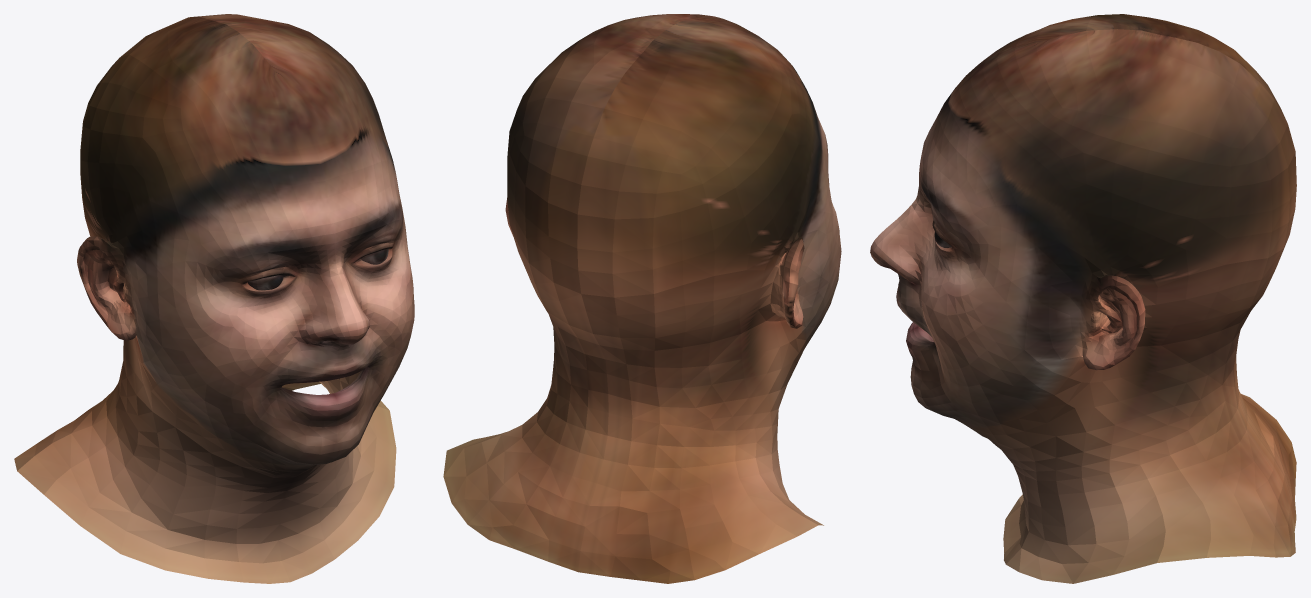
Rendered from IMG_0392_inputs.obj.
The picture shows the model from 3 angles, left to right: view 1: azimuth 30°, elevation 25°; view 2: azimuth 150°, elevation 25°; view 3: azimuth 270°, elevation 25°; orthographic projection. The views are drawn at different scales.
Bounding box in the file's own units: 0.2271 × 0.3157 × 0.2324.
Materials: 1 (1 with a texture image).
